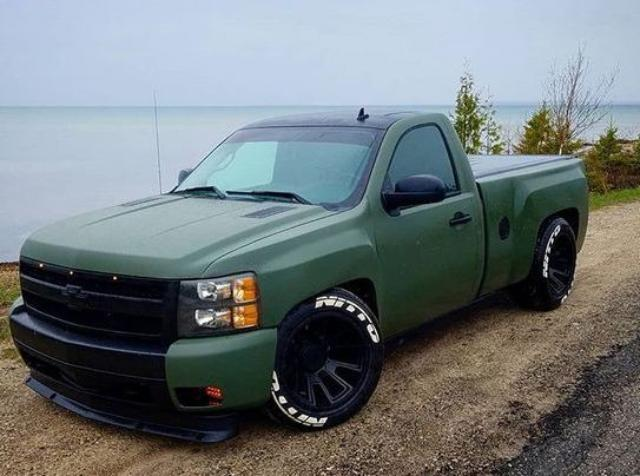pickup-truck: (8, 108, 592, 444)
